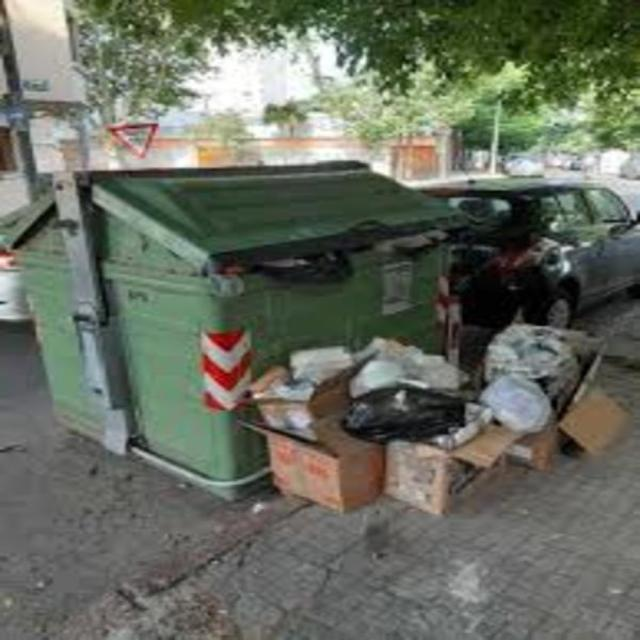garbage: (247, 337, 639, 510), (245, 249, 385, 294)
